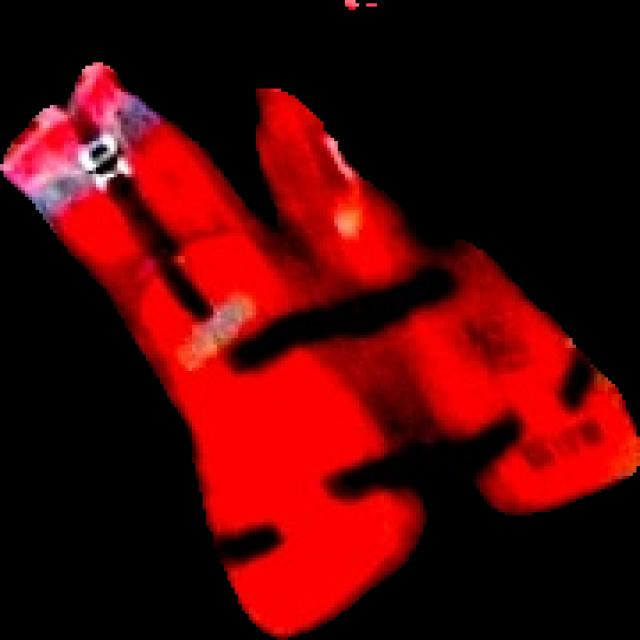Colete: (0, 63, 639, 639)
